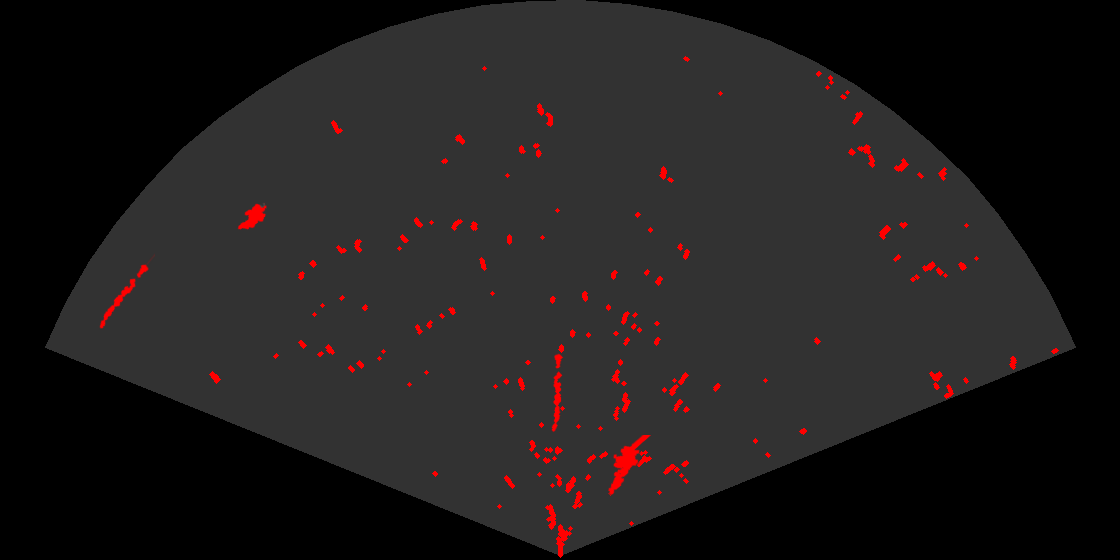AUV: (236, 201, 268, 231)
chain: (98, 253, 155, 330), (550, 353, 565, 433)
frogman: (606, 435, 651, 496)
